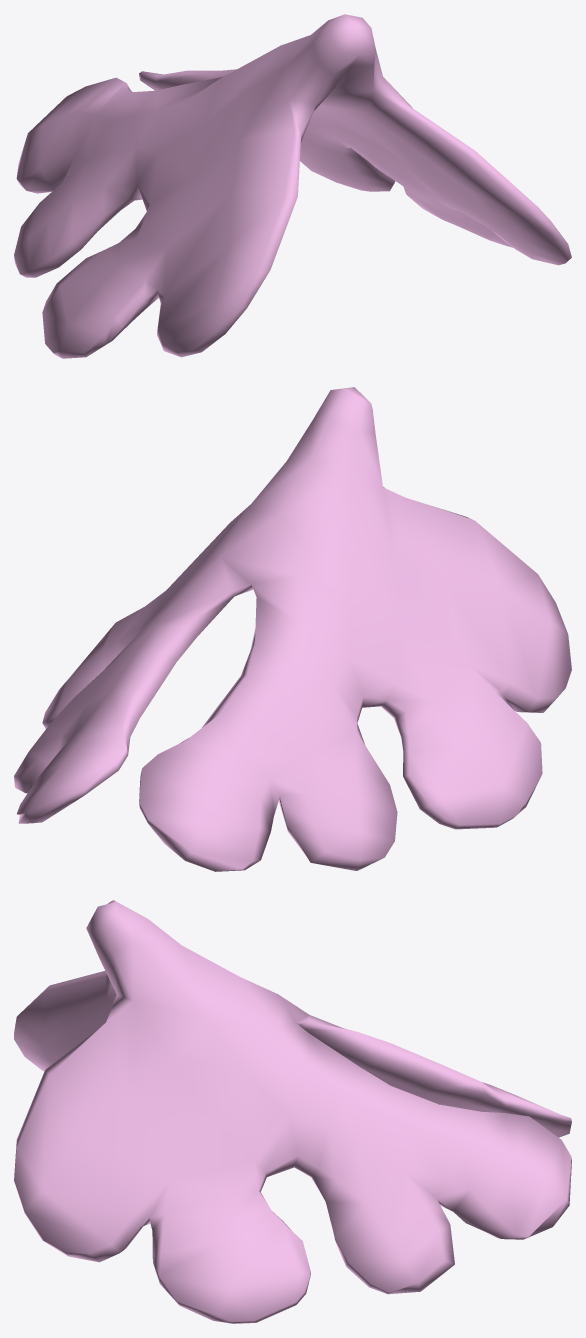
File: Shrimp_Fan_Nylon.fbx
3 views of the same model, one above another, from view 1: azimuth 30°, elevation 25°; view 2: azimuth 150°, elevation 25°; view 3: azimuth 270°, elevation 25° (orthographic). The views are drawn at different scales.
Parts seen in each view (by area): view 1: Fan_low; view 2: Fan_low; view 3: Fan_low.
Boxes of the visible parts, x1,y1,x2,y2 form: Fan_low: (14, 14, 571, 358); Fan_low: (14, 387, 571, 871); Fan_low: (14, 900, 571, 1323).
Bounding box in the file's own units: 41.25 × 27.92 × 44.67.
